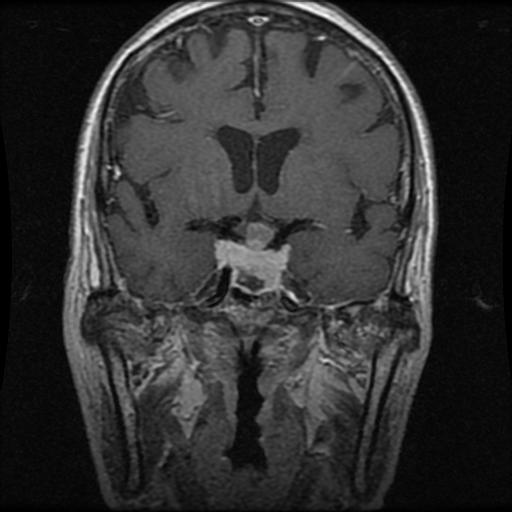Pituirity_tumour: (210, 221, 290, 294)
